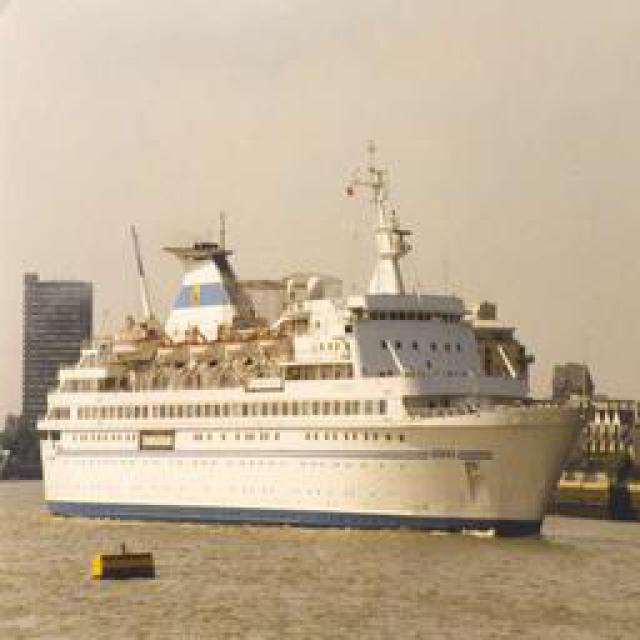Ship: (42, 204, 585, 529)
